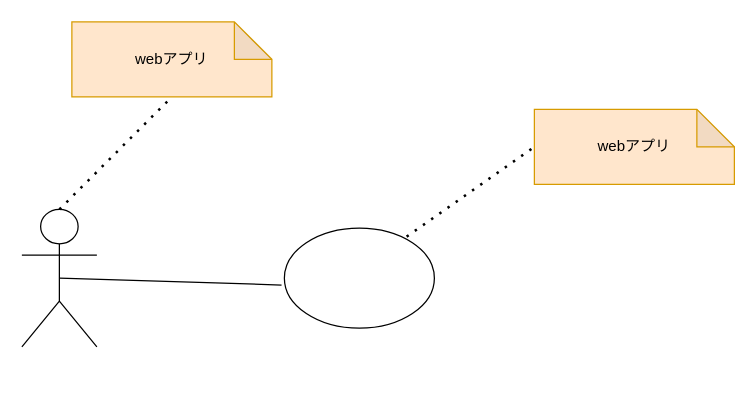
The diagram is 756 pixels wide and 414 high, and some of its shapes have lost their labels. The shapes that lost their labels are listed below. From the top down, each one's centre as x and y in pixels, then its label:
At point 59,277: "ユーザ".
At point 358,277: "計算機".
